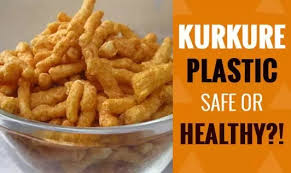kurkure: (1, 1, 172, 131), (177, 16, 288, 55)
